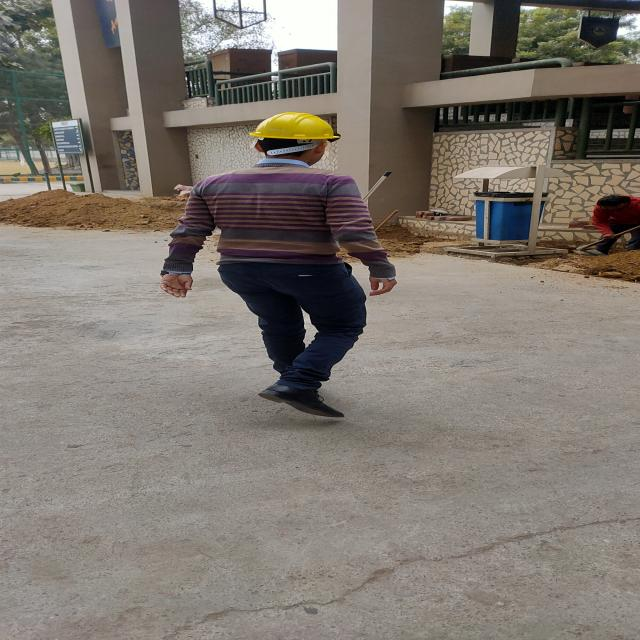no jacket: (164, 112, 398, 418)
unsafe: (589, 193, 640, 254)
